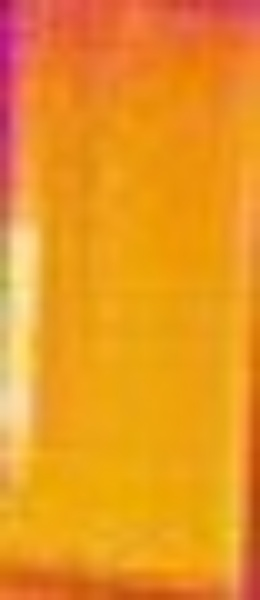Diode: (1, 220, 49, 472)
